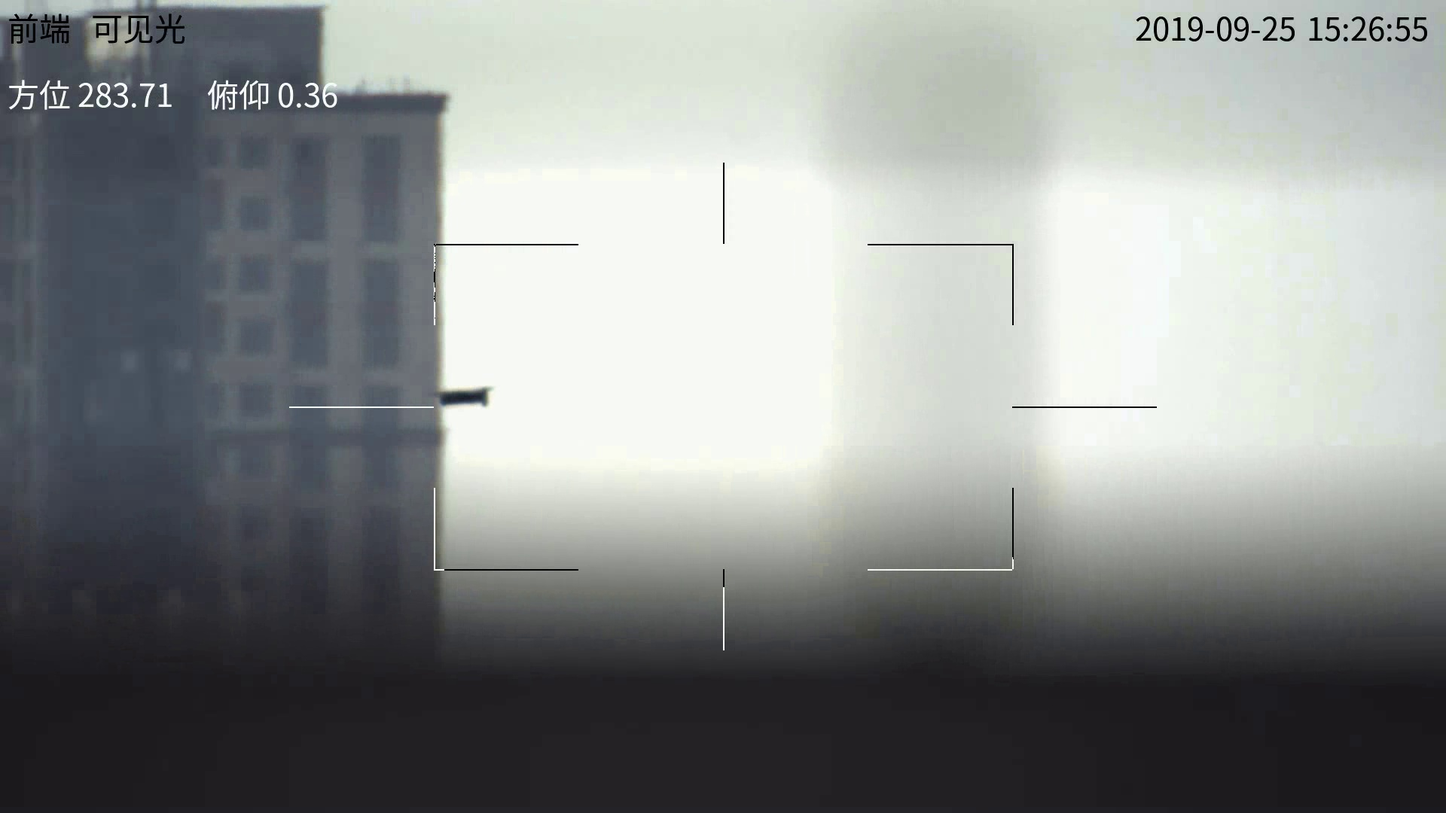drone_other: (432, 387, 494, 408)
